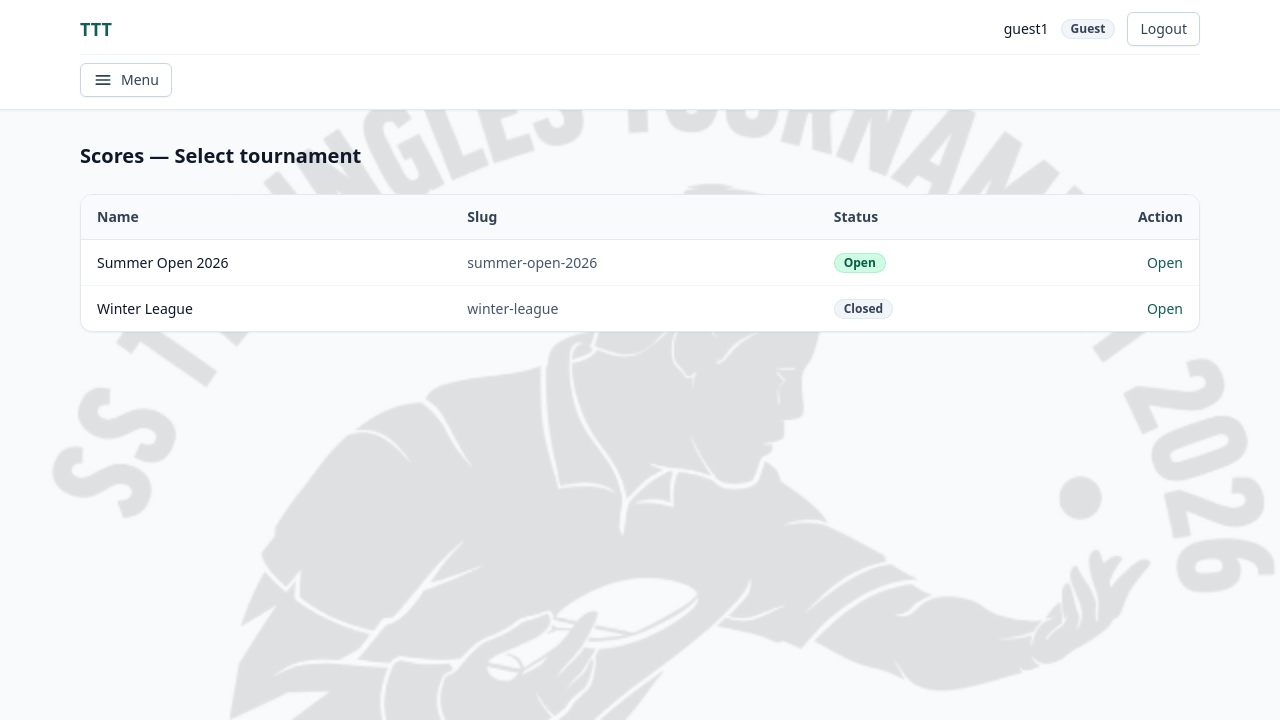
Scenario: Scores tournament picker › opens the scores screen for a tournament
This screenshot has width=1280, height=720.
Expected: the heading "Scores — Select tournament" is shown, [80,142,361,170]
Click the link "Open" in the row of "Summer Open 2026": (1165, 262) [1147,252,1183,272]
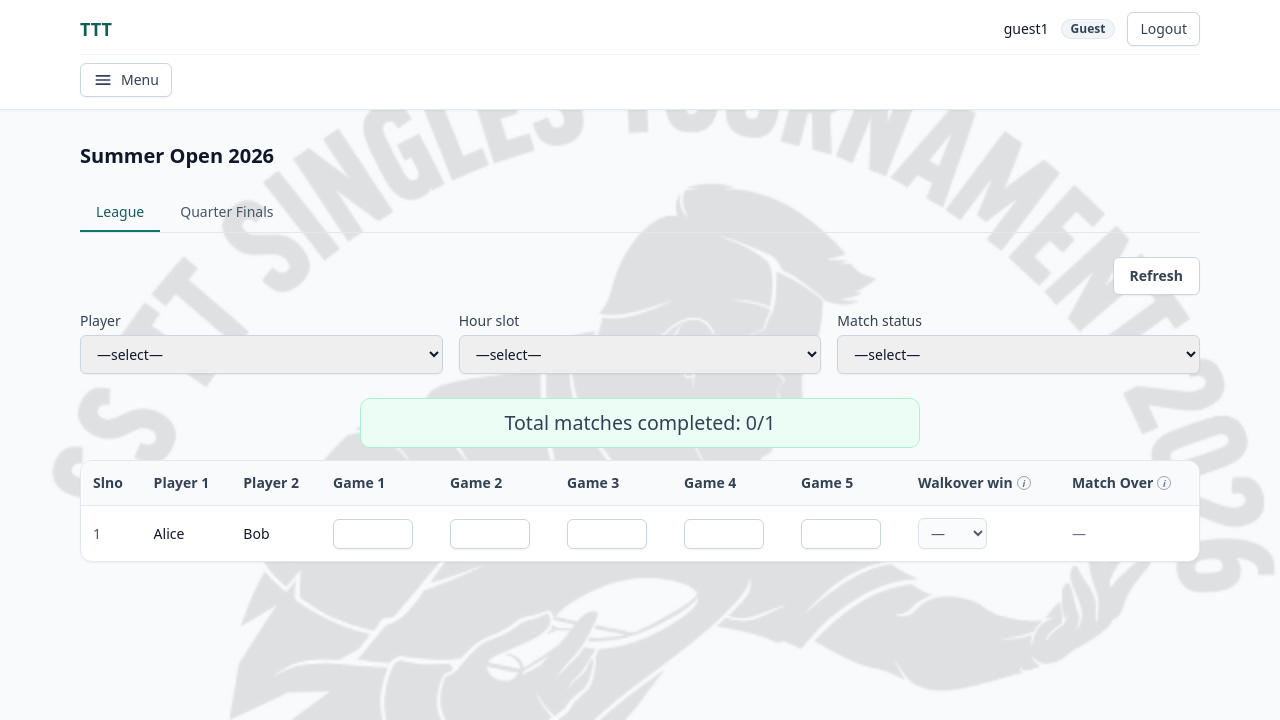
Expected: the dropdown labelled "Player" is shown, [80,335,443,374]
